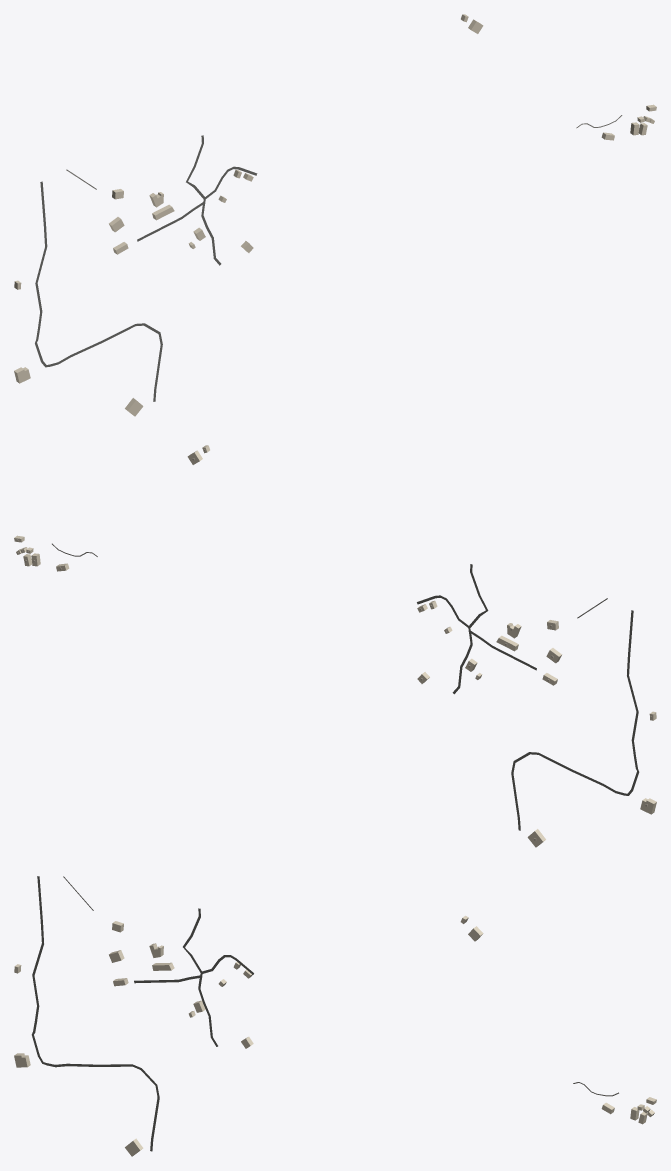
File: historic-palestine-11_22_3529_3168.glb
3 views of the same model, one above another, from view 1: azimuth 30°, elevation 25°; view 2: azimuth 150°, elevation 25°; view 3: azimuth 330°, elevation 25° (orthographic).
Visible parts, largest first — view 1: Road .002; view 2: Road .002; view 3: Road .002, Road.
Boxes of the visible parts, left/top/right/bottom form: Road .002: left=35, top=181, right=162, bottom=401; Road .002: left=511, top=610, right=639, bottom=830; Road .002: left=31, top=876, right=159, bottom=1151; Road: left=183, top=908, right=217, bottom=1046.
Bounding box in the file's own units: 888 × 424 × 8.7.
